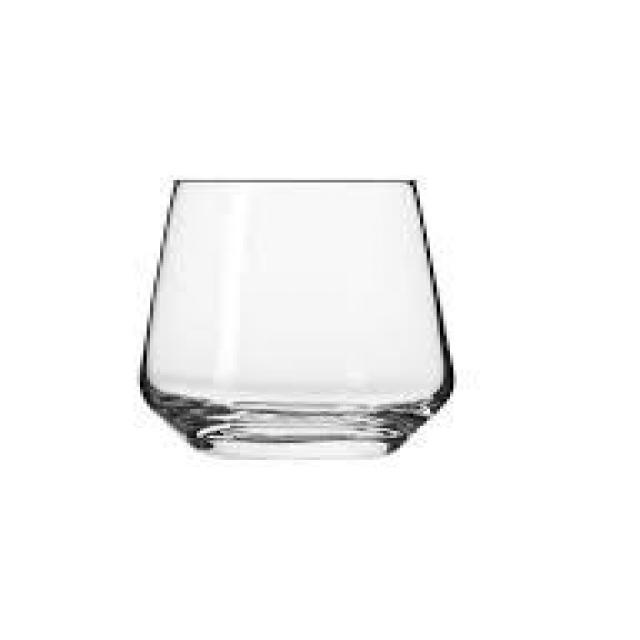glass: (130, 169, 463, 461)
